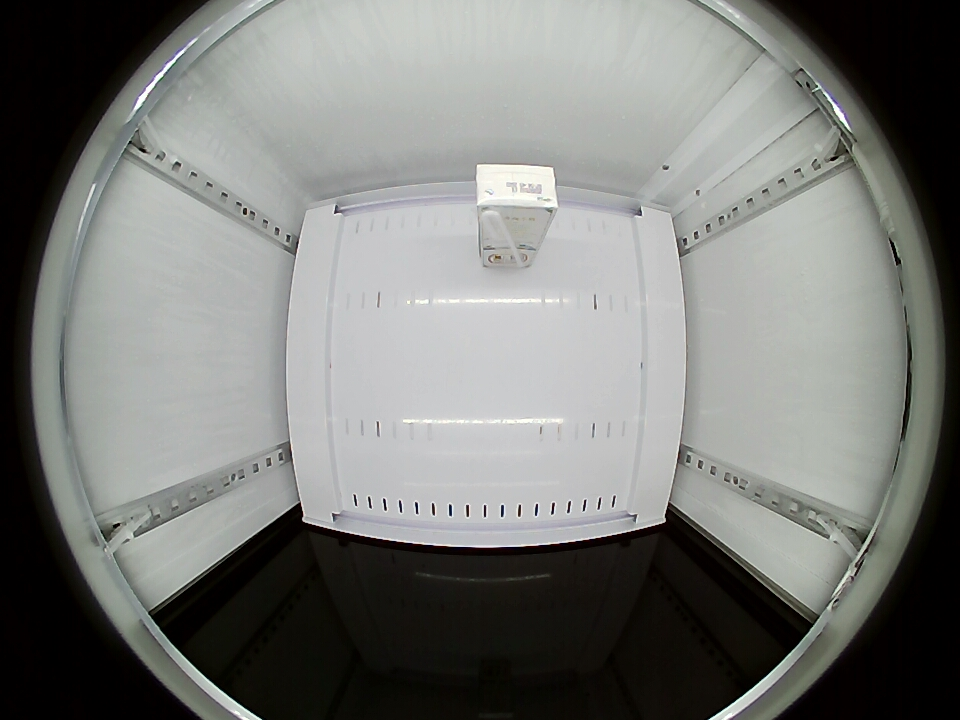jindian: (475, 163, 559, 228)
